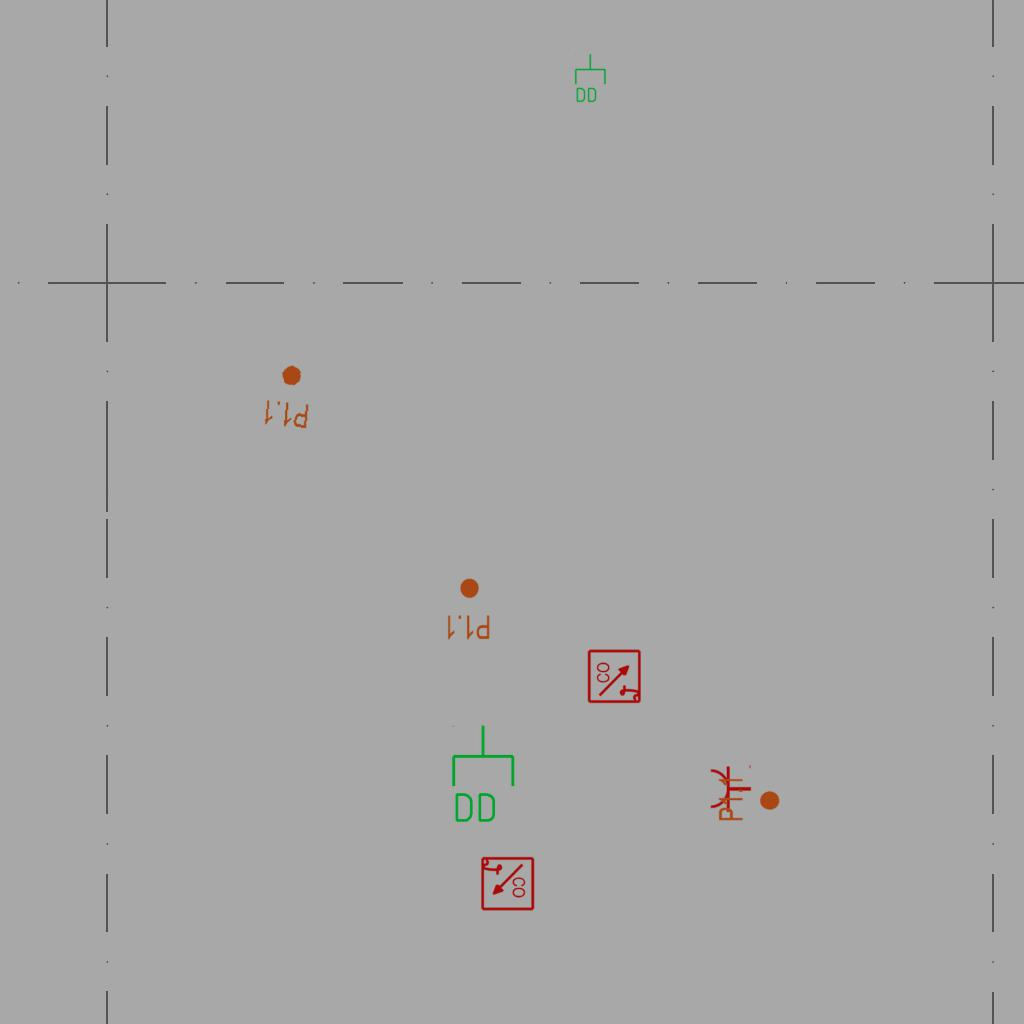Datenanschluss_zweifach: (448, 723, 517, 826), (573, 53, 607, 104)
Downlight_LED_Einbauleuchten_Flur: (261, 361, 315, 431), (445, 577, 491, 641), (717, 776, 781, 822)
ROA_Rauchmelder_optisch_mit_Signalgeber_(Sockelsirene): (587, 648, 643, 704), (479, 856, 535, 912)
Schukosteckdose_einfach: (709, 763, 752, 813)
